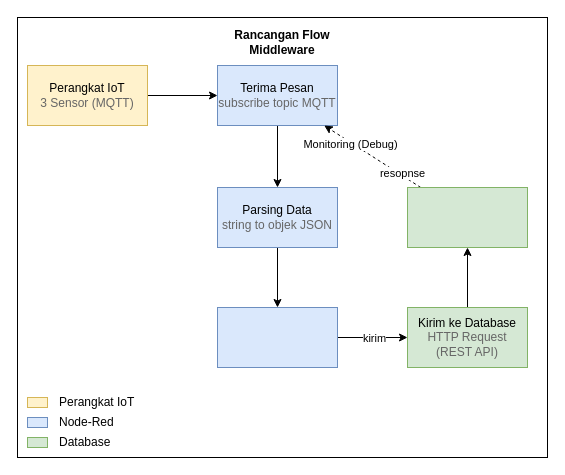
The diagram is 565 pixels wide and 475 high, and some of its shapes have lost their labels. Each missing label, with the box of its shape:
Database penyimpanan historis: (406, 186, 528, 248)
Transformasi +metadata waktu: (216, 306, 338, 368)
